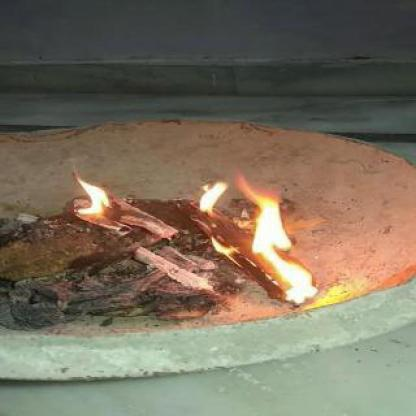fire: (65, 156, 324, 308)
